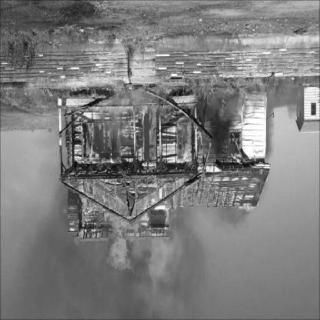Fire: (60, 87, 262, 275)
